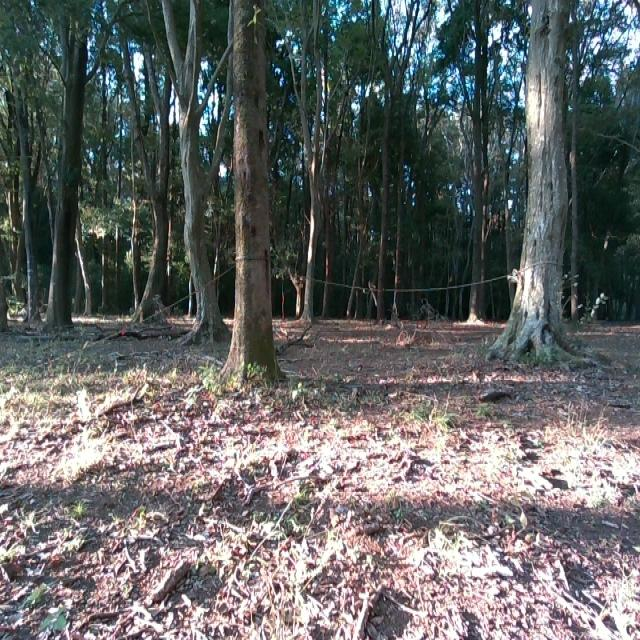tree: (497, 0, 580, 376), (208, 0, 276, 396), (175, 0, 226, 345), (46, 0, 84, 337), (130, 60, 170, 321), (300, 8, 332, 324), (14, 39, 41, 335)
